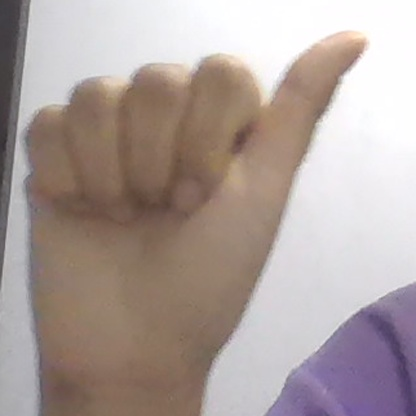A: (26, 32, 367, 392)
